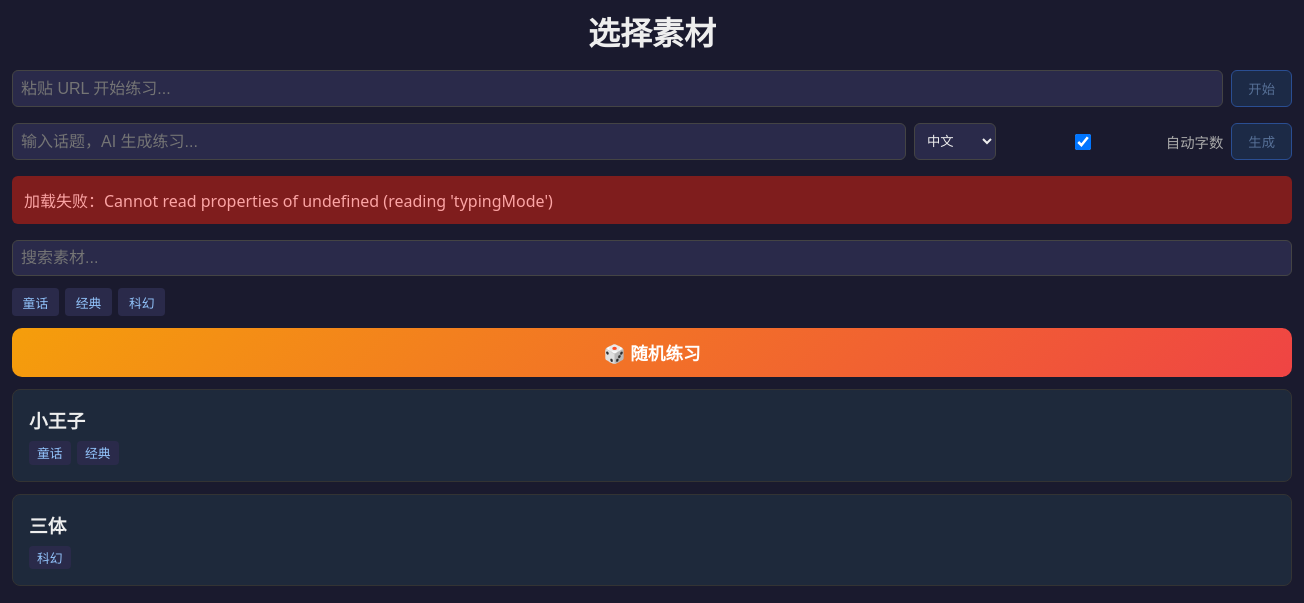
Test case: PlayPage — URL fetch › shows error on failed fetch
Type "https://bad.url" into the field named "url".
click(618, 89); type("https://bad.url")  # box 12,70 -> 1223,107
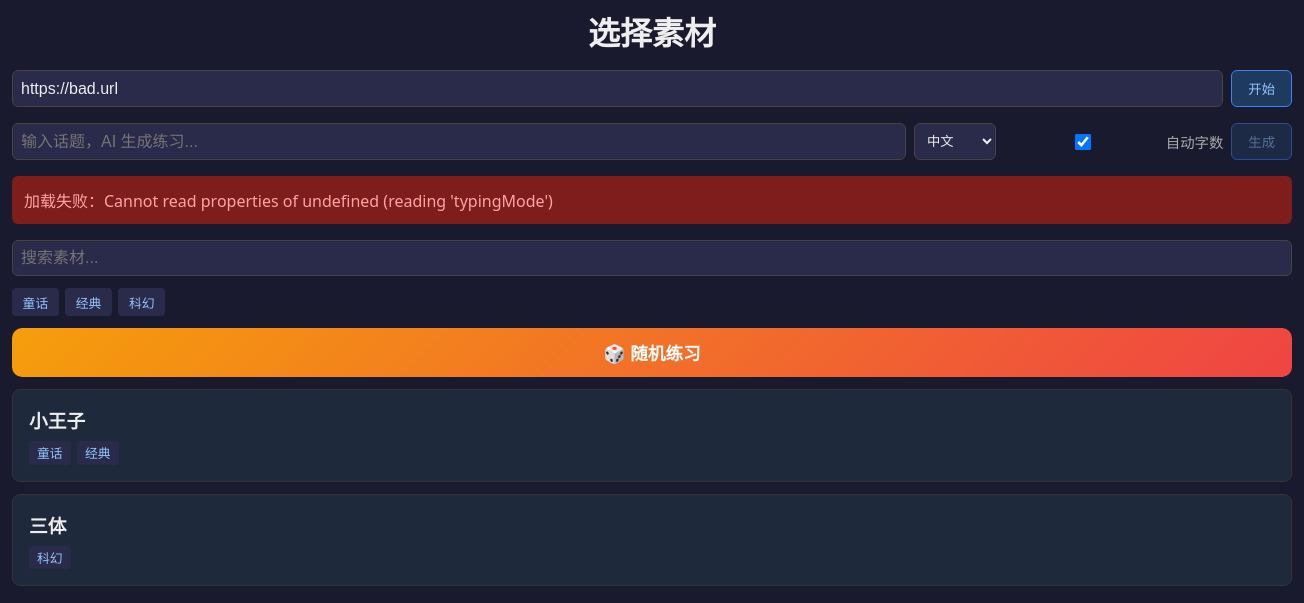
Submit the form with class "url-form", box 12,70 -> 1292,107
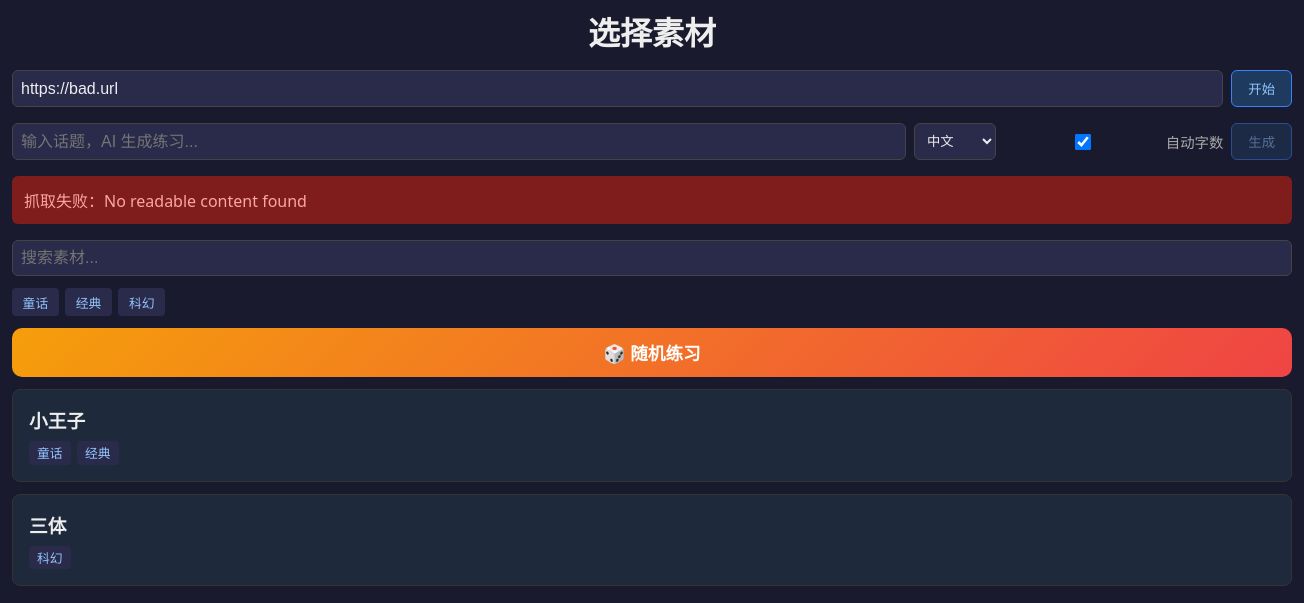
Check: the text with class "error-banner" shows "抓取失败", box 24,190 -> 307,212
